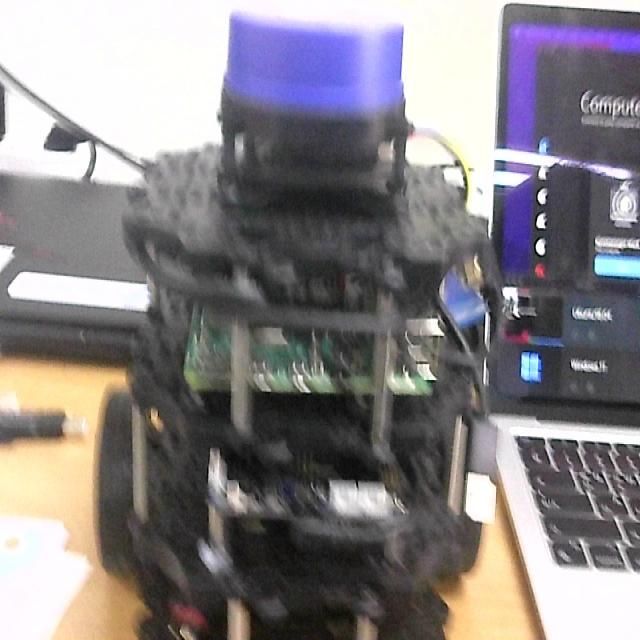turtle: (93, 9, 500, 640)
